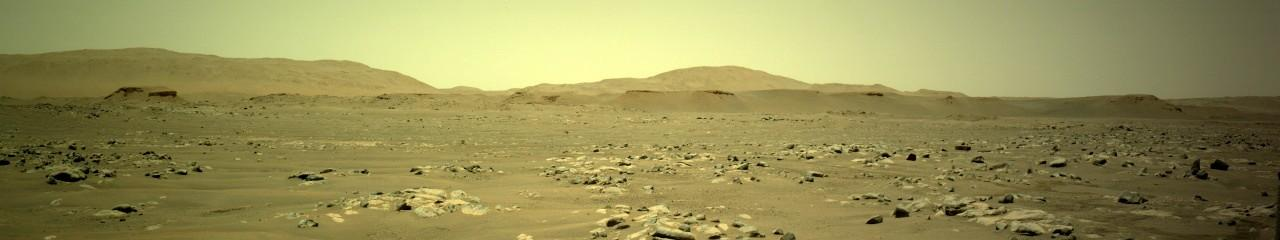bedrock: (535, 133, 1272, 239), (292, 178, 494, 230), (28, 141, 213, 184), (100, 84, 179, 101), (41, 235, 143, 239), (236, 149, 274, 156), (1272, 139, 1279, 168), (496, 165, 507, 177), (1175, 231, 1193, 234), (492, 156, 498, 162), (214, 166, 221, 170), (21, 170, 25, 174), (467, 170, 471, 171), (526, 162, 528, 163)
big_rock: (0, 47, 434, 90), (624, 89, 1169, 107), (167, 94, 194, 103), (14, 155, 26, 163), (3, 144, 10, 154), (7, 160, 9, 161)
sand: (319, 231, 500, 239), (258, 100, 519, 104), (313, 155, 404, 162), (202, 235, 293, 239), (525, 236, 585, 238), (796, 237, 802, 238)
soil: (7, 101, 1274, 159), (1202, 150, 1277, 236), (804, 231, 1010, 239), (7, 179, 22, 234), (1115, 228, 1174, 238), (795, 229, 861, 236), (154, 234, 221, 237), (10, 162, 18, 176), (196, 149, 221, 152), (293, 233, 319, 235), (1160, 228, 1173, 230), (10, 156, 12, 158)
